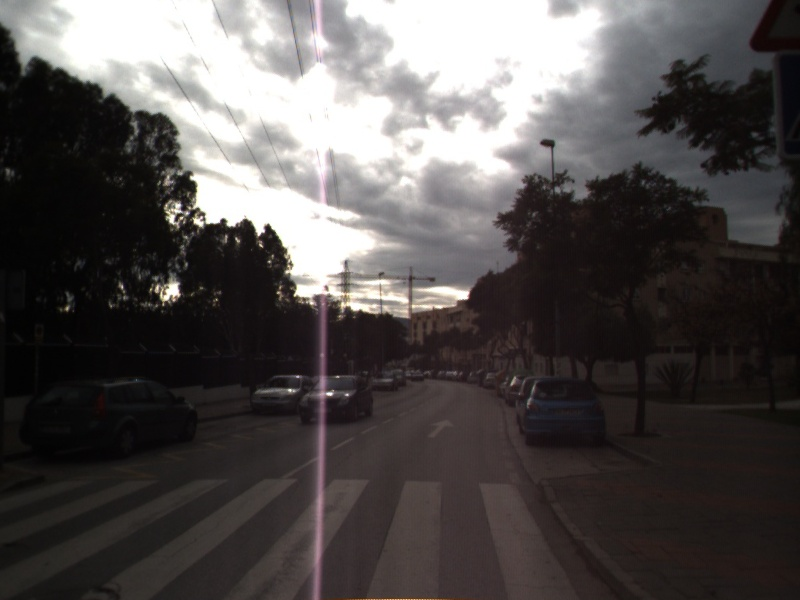STRAIGHT: (425, 417, 457, 440)
